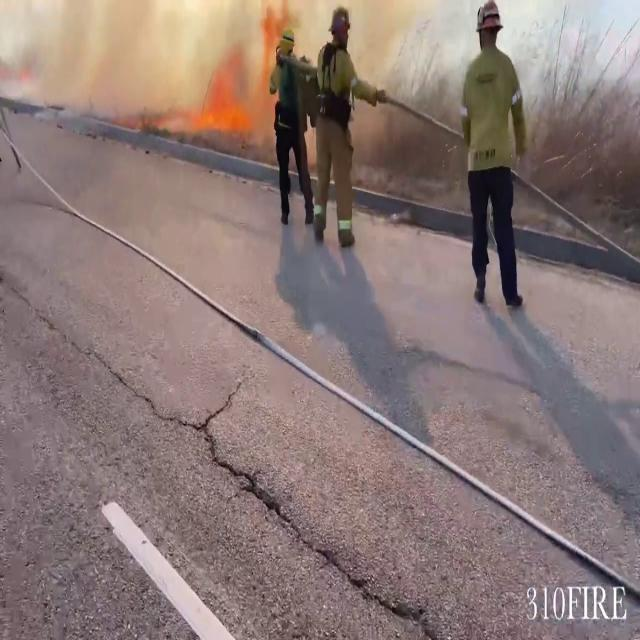Fire: (198, 67, 254, 144)
Smoke: (0, 0, 259, 132)
